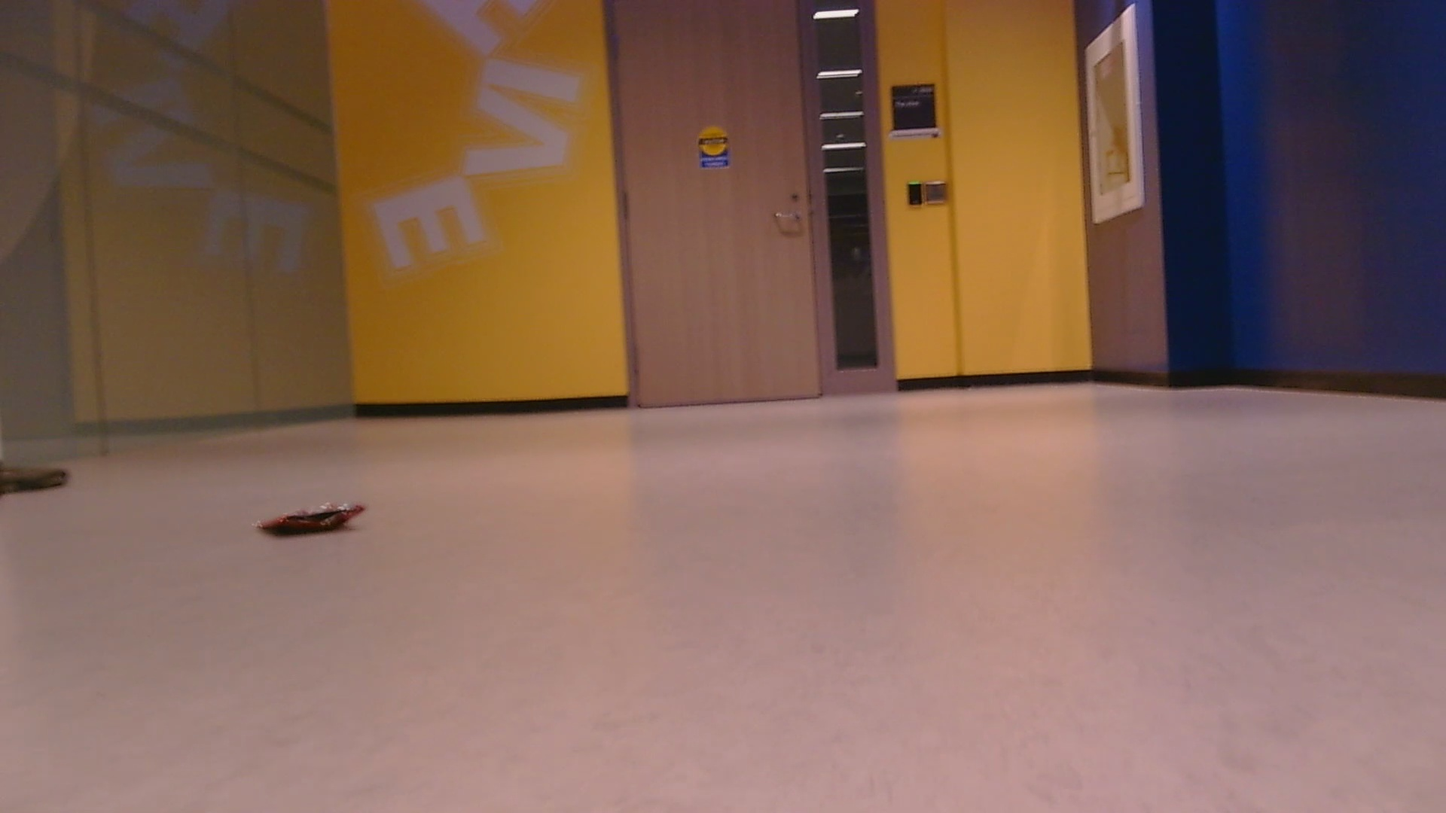can: (248, 494, 374, 550)
